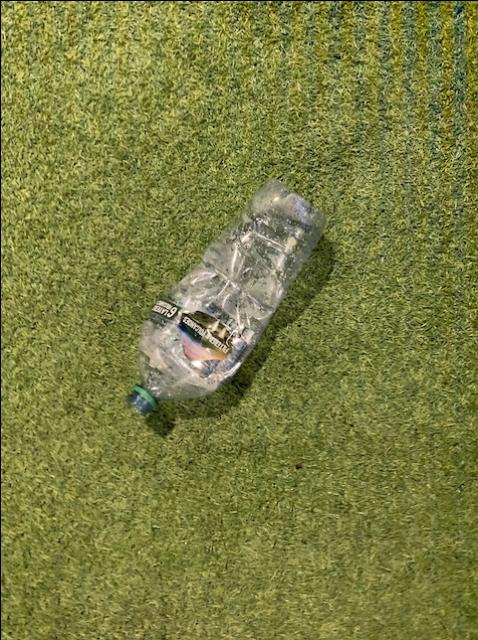plastic: (125, 178, 324, 412)
